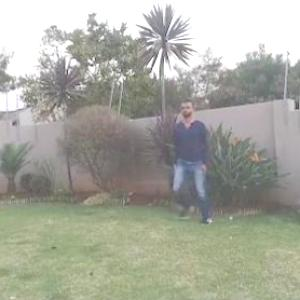follow: (172, 94, 210, 222)
